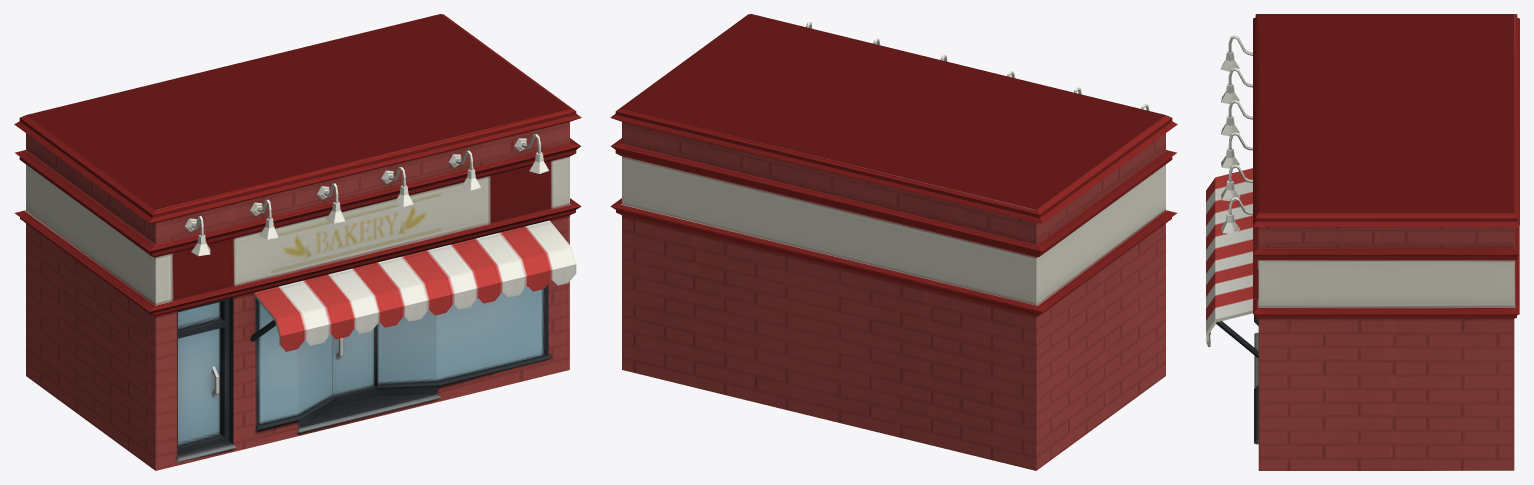
File: cafe.glb
3 renders of one model, left to right at view 1: azimuth 30°, elevation 25°; view 2: azimuth 150°, elevation 25°; view 3: azimuth 270°, elevation 25°, orthographic.
Visible parts, largest first — view 1: Bakery_mesh; view 2: Bakery_mesh; view 3: Bakery_mesh.
Part boxes in pixels (bbox=[...]): Bakery_mesh: bbox=[14, 14, 581, 470]; Bakery_mesh: bbox=[610, 14, 1177, 470]; Bakery_mesh: bbox=[1206, 14, 1519, 470].
Size of the model in its own units: 19.26 by 11.1 by 12.26.
1 material, 1 textured.
